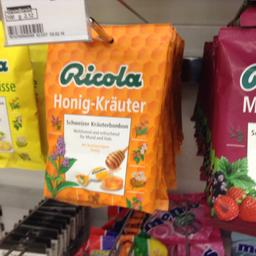candy: (39, 26, 169, 212), (204, 31, 254, 225), (0, 20, 31, 166)
